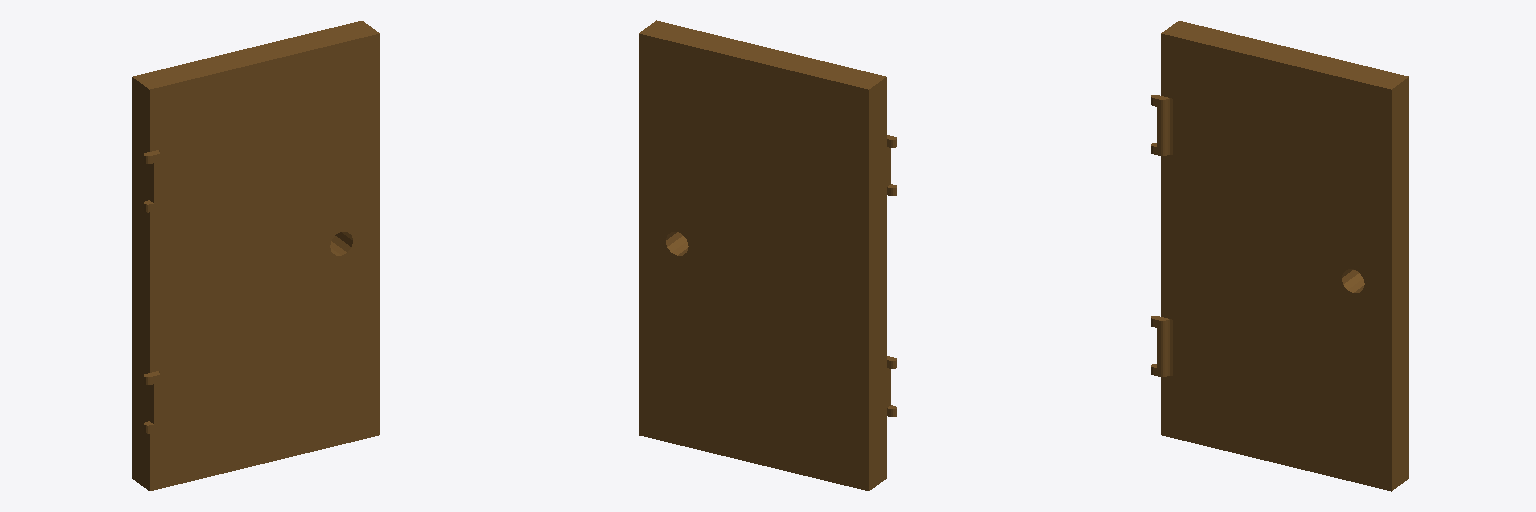
URDF robot description (door):
<?xml version="1.0" encoding="utf-8"?>
<!-- This URDF was automatically created by SolidWorks to URDF Exporter! Originally created by [author] ([email redacted]) 
     Commit Version: 1.6.0-1-g15f4949  Build Version: 1.6.7594.29634
     For more information, please see http://wiki.ros.org/sw_urdf_exporter -->
<robot
  name="door">
  <link
    name="base_link">
    <inertial>
      <origin
        xyz="-0.00035856 -6.81E-05 0.30204"
        rpy="0 0 0" />
      <mass
        value="2.168" />
      <inertia
        ixx="0.077355"
        ixy="-2.2905E-05"
        ixz="-3.9675E-05"
        iyy="0.13908"
        iyz="-7.5353E-06"
        izz="0.062634" />
    </inertial>
    <visual>
      <origin
        xyz="0 0 0"
        rpy="0 0 0" />
      <geometry>
        <mesh
          filename="package://bopt_gmm/objects/door/base_link.STL" />
      </geometry>
      <material
        name="oak">
        <color
          rgba="0.5 0.37 0.2 1" />
      </material>
    </visual>
    <collision>
      <origin
        xyz="0 0 0"
        rpy="0 0 0" />
      <geometry>
        <mesh
          filename="package://bopt_gmm/objects/door/base_link_collision.obj" />
      </geometry>
    </collision>
  </link>
  <link
    name="door_link">
    <inertial>
      <origin
        xyz="0.1541 0.25 -0.024928"
        rpy="0 0 0" />
      <mass
        value="3.354" />
      <inertia
        ixx="0.070642"
        ixy="-2.8091E-19"
        ixz="3.5445E-05"
        iyy="0.025702"
        iyz="7.7165E-20"
        izz="0.095441" />
    </inertial>
    <visual>
      <origin
        xyz="0 0 0"
        rpy="0 0 0" />
      <geometry>
        <mesh
          filename="package://bopt_gmm/objects/door/door_link.STL" />
      </geometry>
      <material
        name="oak">
        <color
          rgba="0.5 0.37 0.2 1" />
      </material>
    </visual>
    <collision>
      <origin
        xyz="0 0 0"
        rpy="0 0 0" />
      <geometry>
        <mesh
          filename="package://bopt_gmm/objects/door/door_link_collision.obj" />
      </geometry>
    </collision>
  </link>
  <joint
    name="base__door"
    type="revolute">
    <origin
      xyz="-0.1555 -0.03 0.001"
      rpy="1.5708 0 0" />
    <parent
      link="base_link" />
    <child
      link="door_link" />
    <axis
      xyz="0 -1 0" />
    <limit
      lower="0"
      upper="1.5708"
      effort="1"
      velocity="1" />
  </joint>
  <link concave='yes'
    name="handle_link">
    <inertial>
      <origin
        xyz="0.026404 -0.01 0.011738"
        rpy="0 0 0" />
      <mass
        value="0.56914" />
      <inertia
        ixx="0.00061276"
        ixy="-5.727E-20"
        ixz="-0.00047573"
        iyy="0.0012992"
        iyz="-8.6141E-20"
        izz="0.00072869" />
    </inertial>
    <visual>
      <origin
        xyz="0 0 0"
        rpy="0 0 0" />
      <geometry>
        <mesh
          filename="package://bopt_gmm/objects/door/handle_link.STL" />
      </geometry>
      <material
        name="stainless steel">
        <color
          rgba="0.77647 0.75686 0.73725 1" />
      </material>
    </visual>
    <collision>
      <origin
        xyz="0 0 0"
        rpy="0 0 0" />
      <geometry>
        <mesh concave='yes'
          filename="package://bopt_gmm/objects/door/handle_link_collision.obj" />
      </geometry>
    </collision>
  </link>
  <joint
    name="door__handle"
    type="revolute">
    <origin
      xyz="0.255 0.24 0"
      rpy="0 0 3.1416" />
    <parent
      link="door_link" />
    <child
      link="handle_link" />
    <axis
      xyz="0 0 1" />
    <limit
      lower="0"
      upper="0.7854"
      effort="1"
      velocity="1" />
  </joint>
</robot>

--- Facts derived from the render (not from the file) ---
3 views of the same robot in one strip: view 1: azimuth 30°, elevation 25°; view 2: azimuth 150°, elevation 25°; view 3: azimuth 330°, elevation 25° (orthographic).
Robot: door — 3 links, 2 joints (2 revolute); root link base_link; default pose: all joints at 0.
Visible links, largest first — view 1: door_link; view 2: door_link; view 3: door_link.
Link boxes in pixels (bbox=[...]): door_link: bbox=[132, 21, 379, 490]; door_link: bbox=[639, 20, 896, 490]; door_link: bbox=[1151, 21, 1408, 491].
Size in the robot's own frame: 0.31 by 0.05 by 0.5 metres.
1 mesh visuals loaded from 3 distinct referenced files (1 binary STL); not drawn: 2 (reference not matched to a file when rendering).